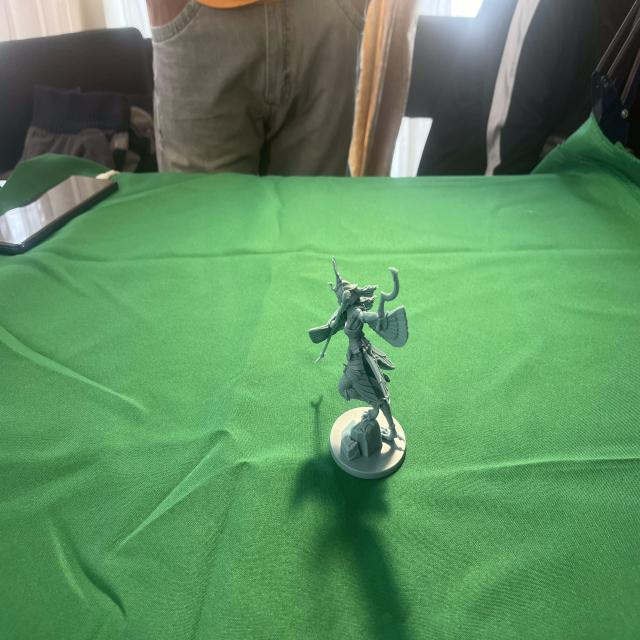isis: (293, 244, 432, 501)
